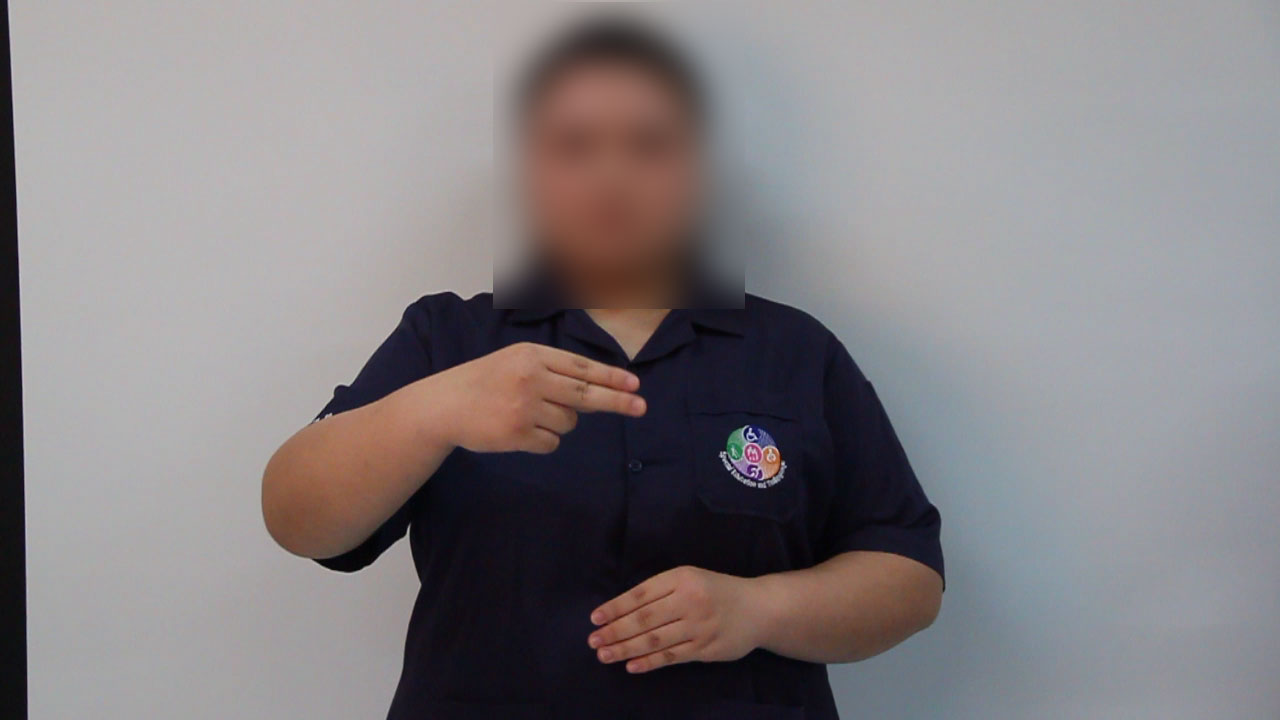hor: (431, 323, 660, 478)
